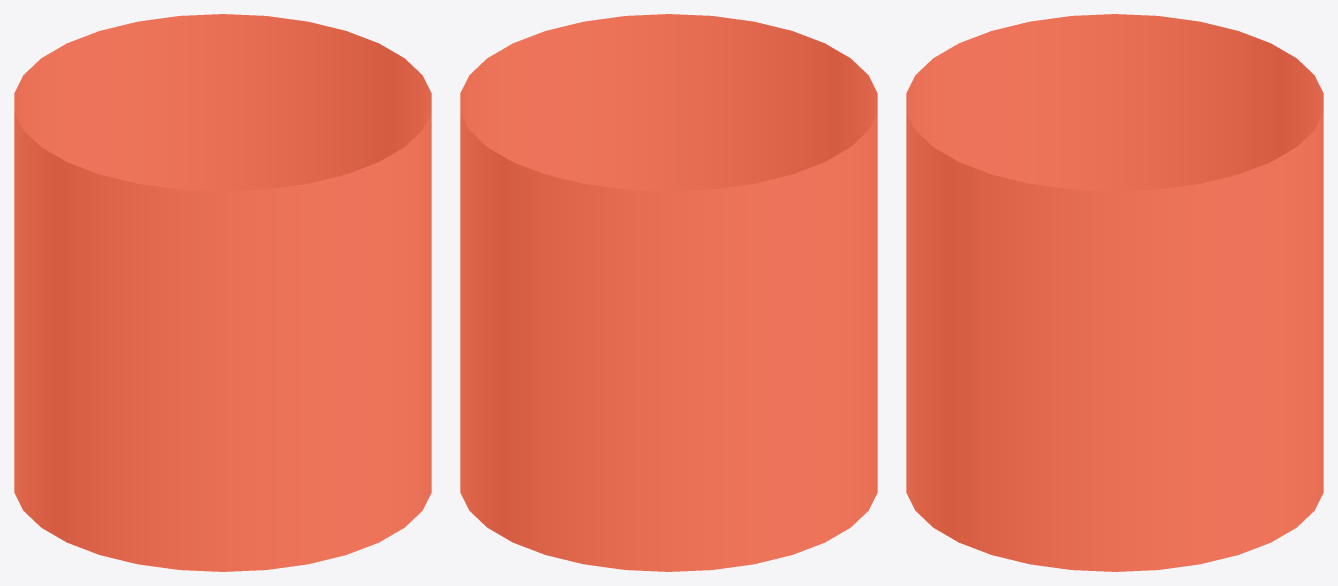
File: SM_CylinderWithoutTops.FBX
3 renders of one model, left to right at view 1: azimuth 30°, elevation 25°; view 2: azimuth 150°, elevation 25°; view 3: azimuth 270°, elevation 25°, orthographic.
Visible parts, largest first — view 1: SM_CylinderWithoutTops; view 2: SM_CylinderWithoutTops; view 3: SM_CylinderWithoutTops.
Part boxes in pixels (x1,y1,x2,y2): SM_CylinderWithoutTops: (14,14,431,571); SM_CylinderWithoutTops: (460,14,877,571); SM_CylinderWithoutTops: (906,14,1323,571).
Bounding box in the file's own units: 100 × 99.45 × 100.
